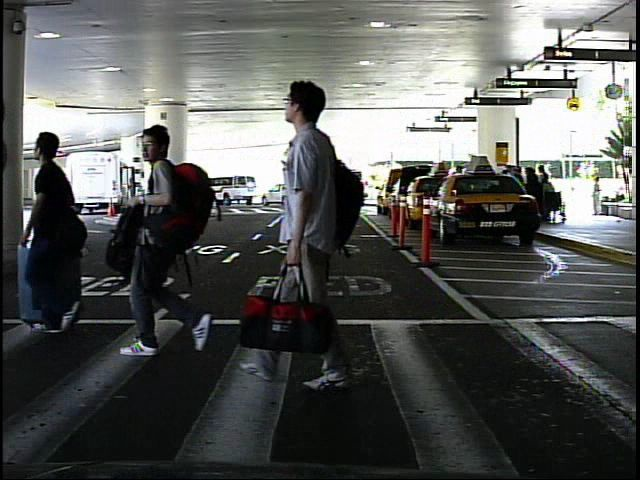person: (242, 64, 368, 394), (106, 110, 215, 363), (16, 115, 103, 354), (588, 174, 607, 219)
